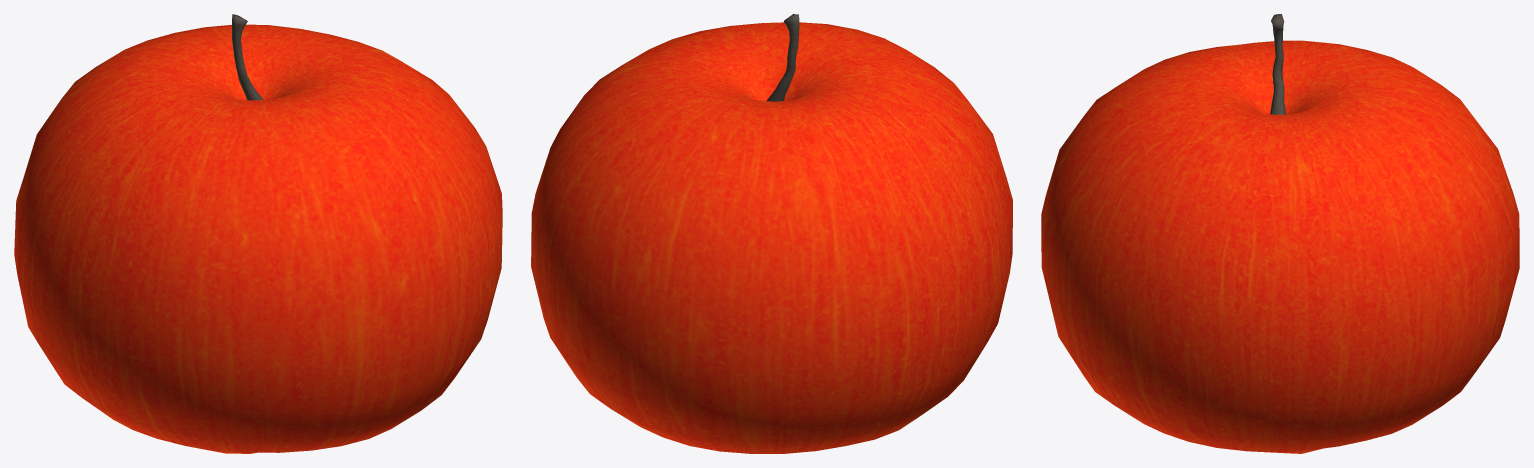
File: apple.gltf
3 renders of one model, left to right at view 1: azimuth 30°, elevation 25°; view 2: azimuth 150°, elevation 25°; view 3: azimuth 270°, elevation 25°, orthographic. The views are drawn at different scales.
Parts seen in each view (by area): view 1: Apple, Chunk; view 2: Apple, Chunk; view 3: Apple, Chunk.
Part boxes in pixels (bbox=[...]): Apple: bbox=[14, 24, 502, 453]; Chunk: bbox=[232, 14, 263, 100]; Apple: bbox=[531, 22, 1012, 453]; Chunk: bbox=[766, 14, 799, 101]; Apple: bbox=[1041, 40, 1519, 453]; Chunk: bbox=[1270, 14, 1286, 114].
Bounding box in the file's own units: 1.58 × 1.42 × 1.62.
Materials: 2 (2 with a texture image).
